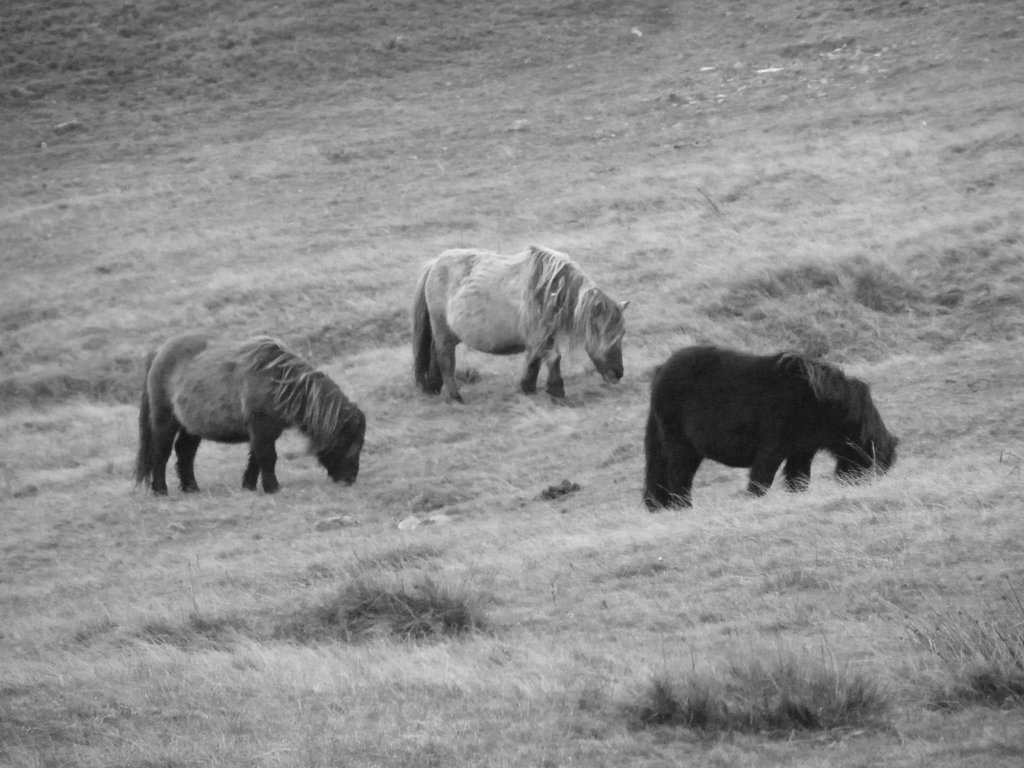horse: (131, 332, 368, 497), (409, 242, 632, 406)
